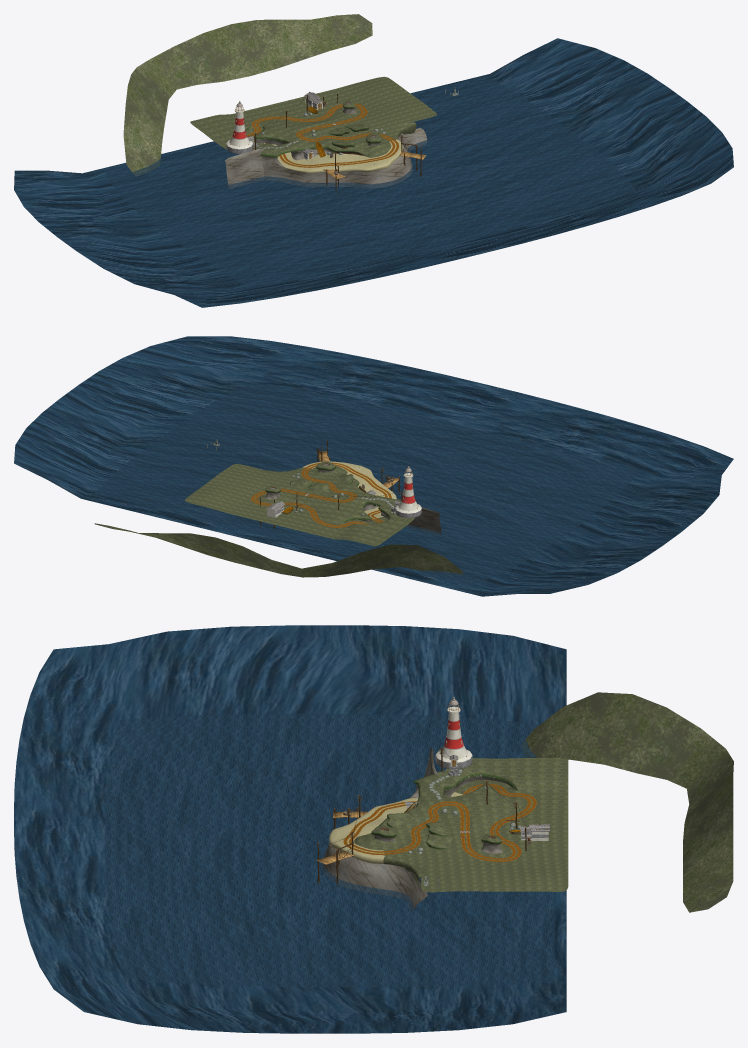
Rendered from lighthouse.glb.
3 views of the same model, one above another, from view 1: azimuth 30°, elevation 25°; view 2: azimuth 150°, elevation 25°; view 3: azimuth 270°, elevation 25° (orthographic). The views are drawn at different scales.
Bounding box in the file's own units: 1034 × 153 × 770.
27 materials, 26 textured.
